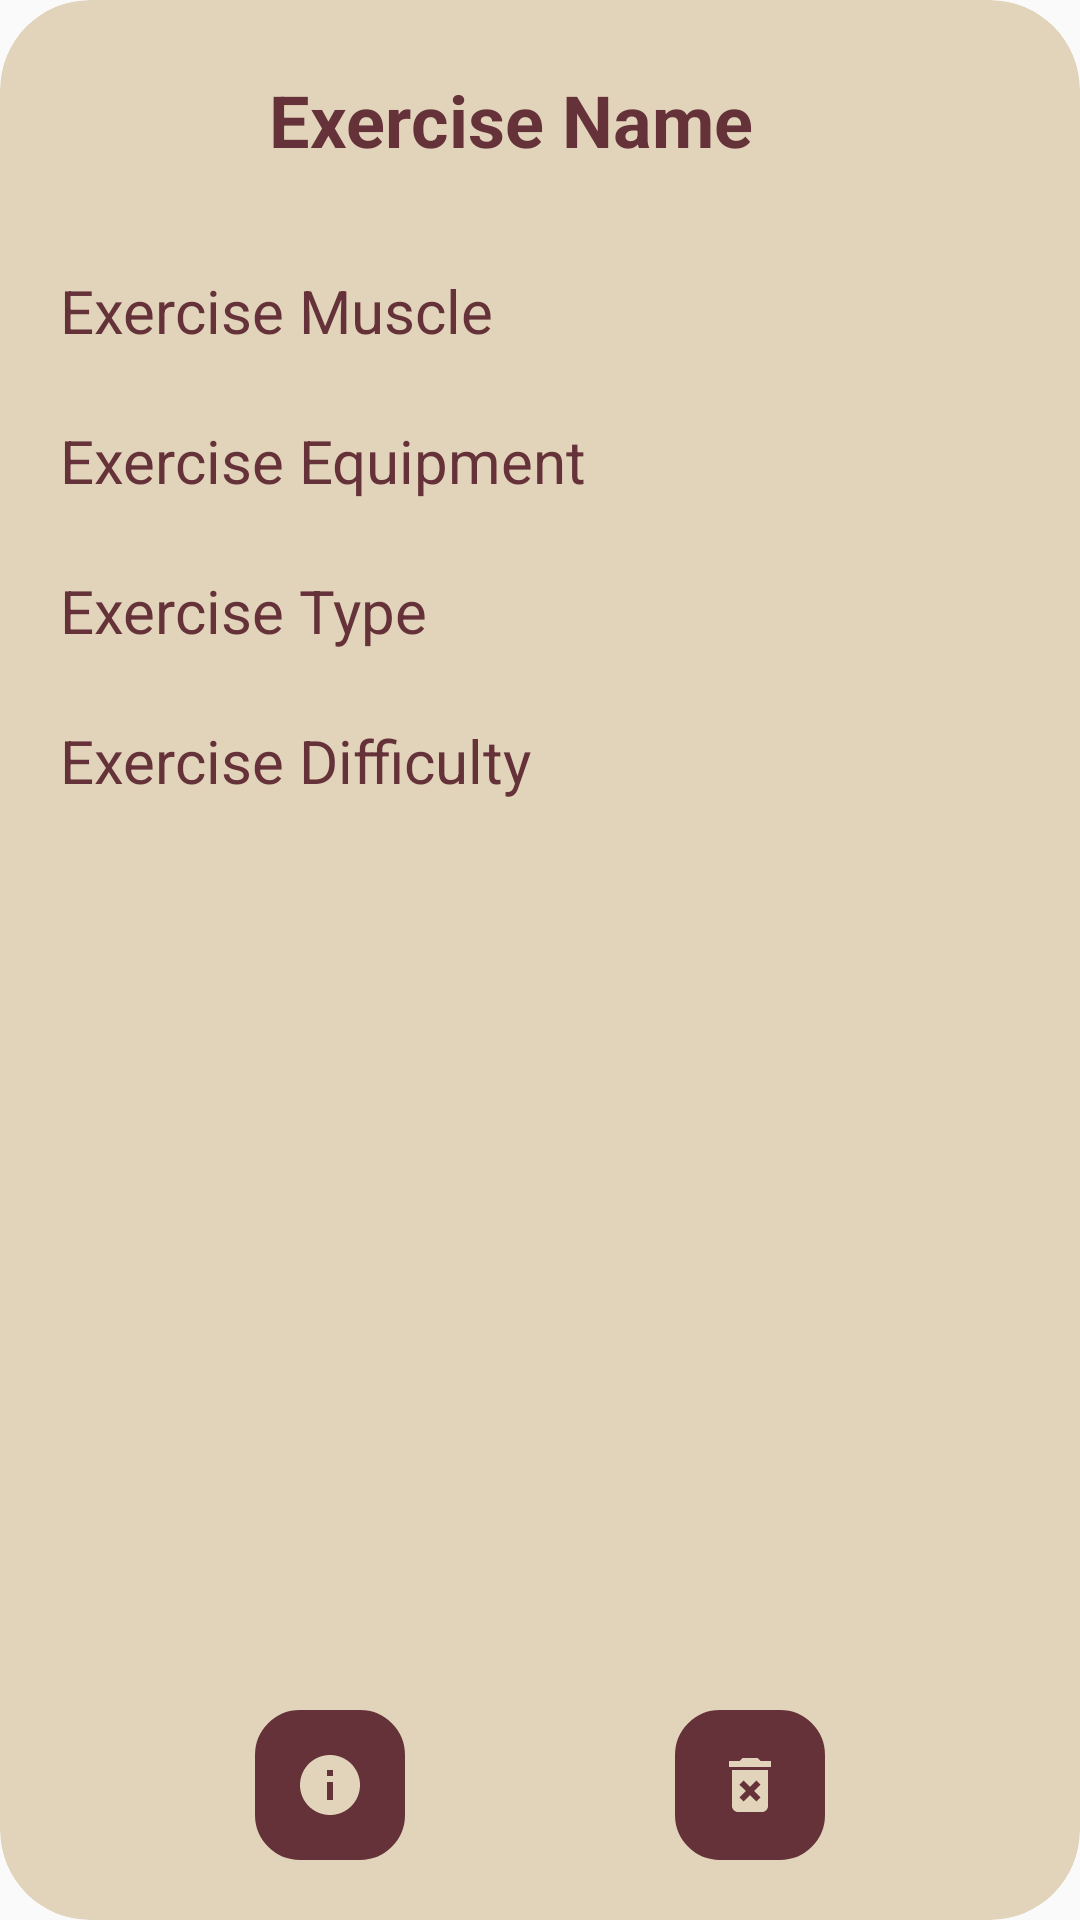

Named icons in this screenshot (1080*1920) and their centers, (x=x, y=y):
delete: (x=750, y=1785)
info: (x=330, y=1785)
